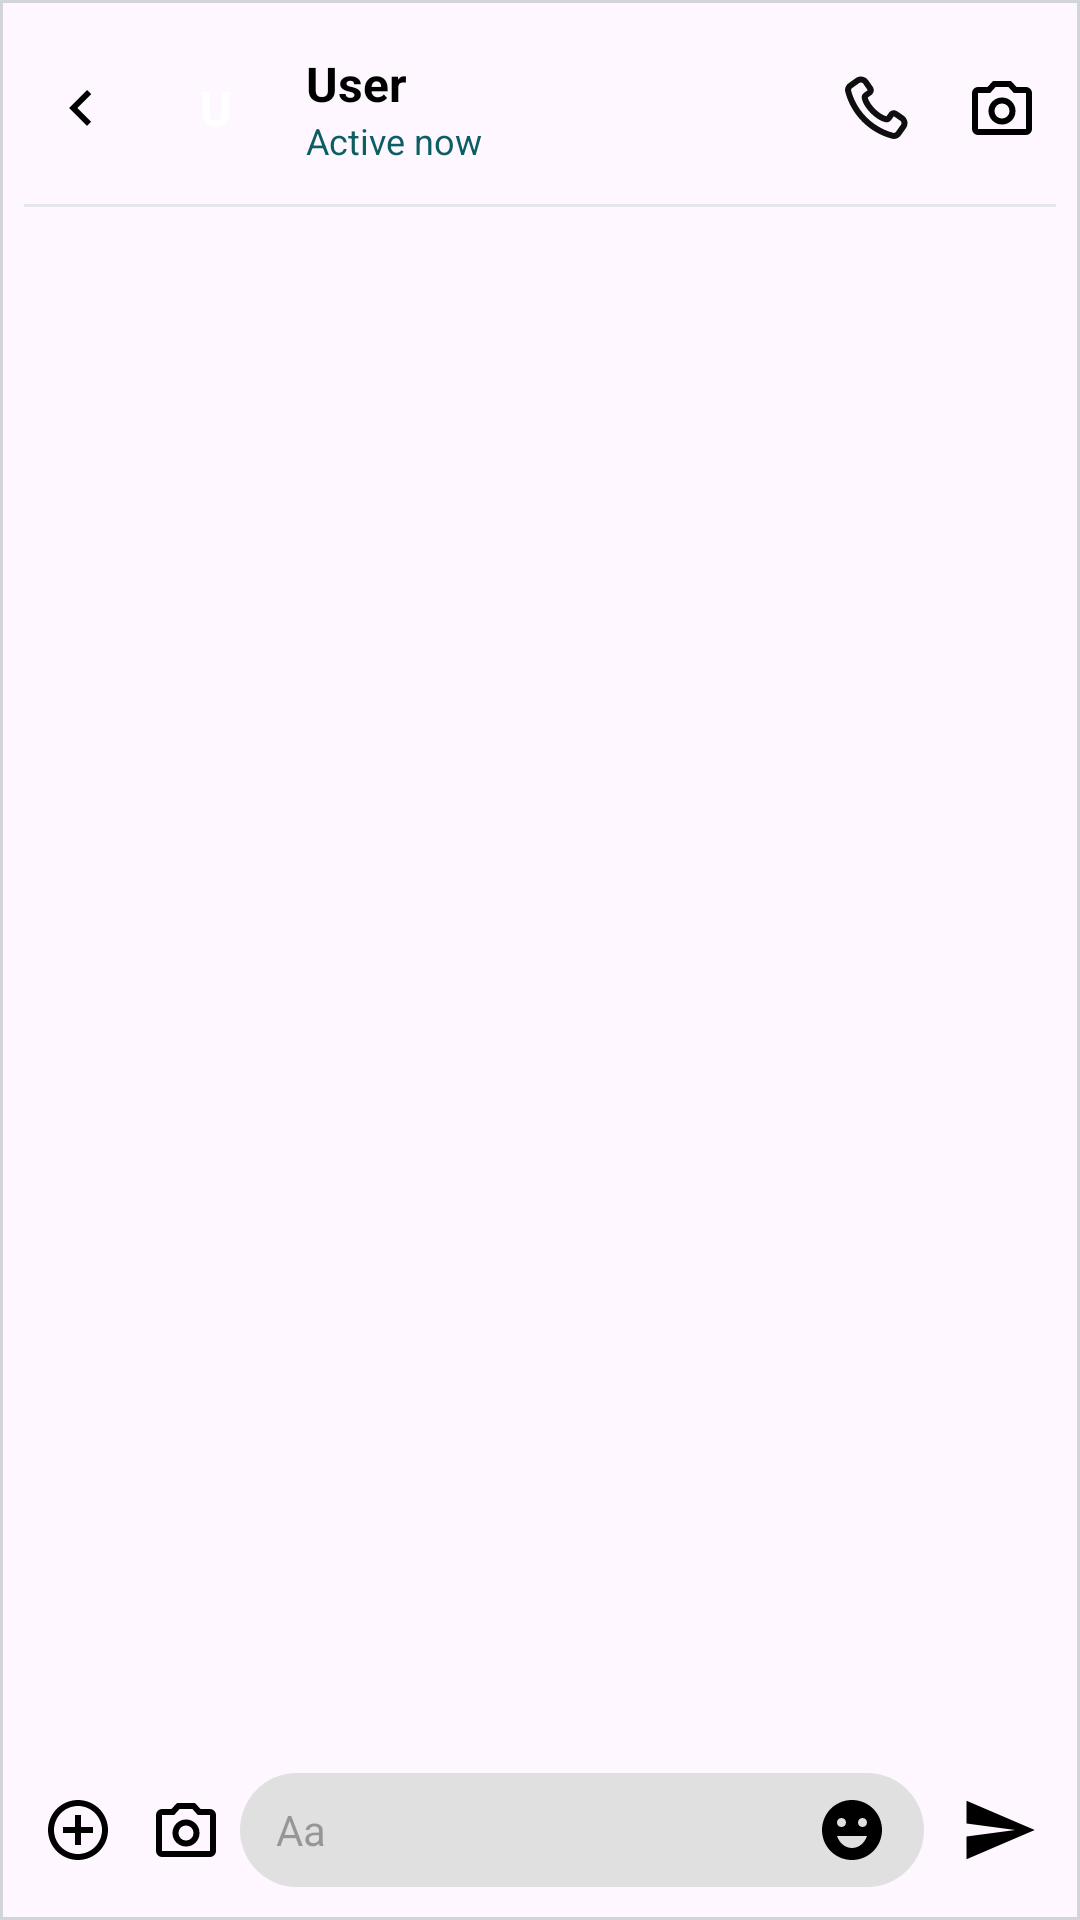

Locate icon controls on the screen. Image size 1080px x 1920px, boxes as BBox(x1, y1, x2, y2).
Add: BBox(48, 1800, 108, 1860)
Back: BBox(69, 90, 91, 126)
Camera: BBox(156, 1803, 216, 1857)
Emoji: BBox(822, 1800, 882, 1860)
Send: BBox(966, 1801, 1035, 1859)
Voice Call: BBox(845, 76, 908, 139)
